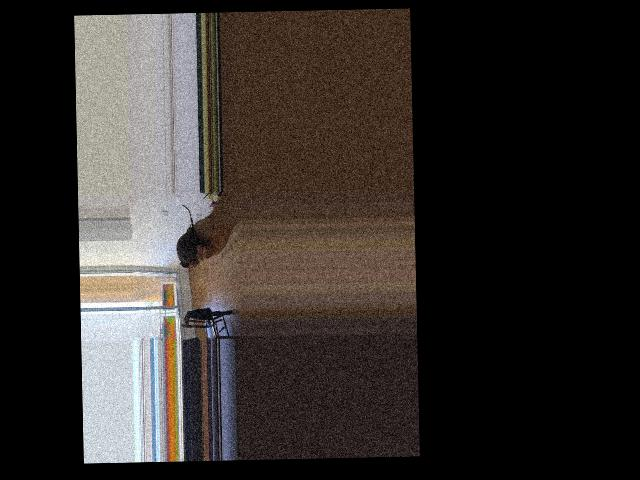beet: (176, 205, 198, 269)
